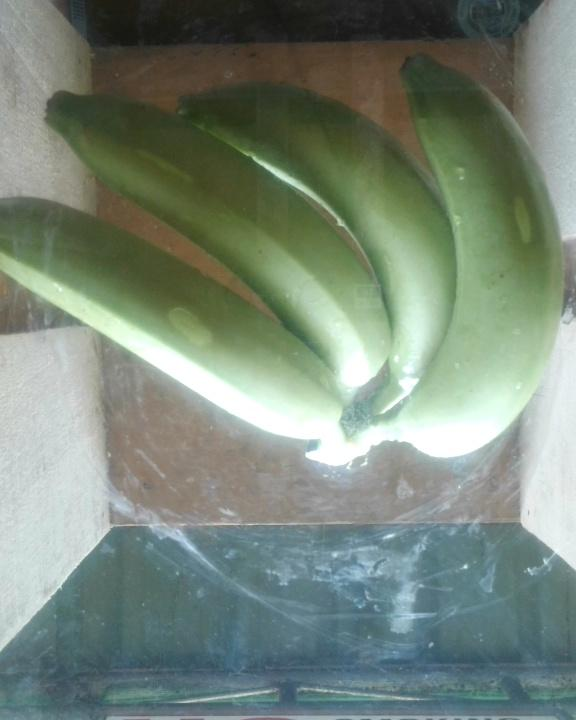SPOT: (2, 45, 576, 475)
